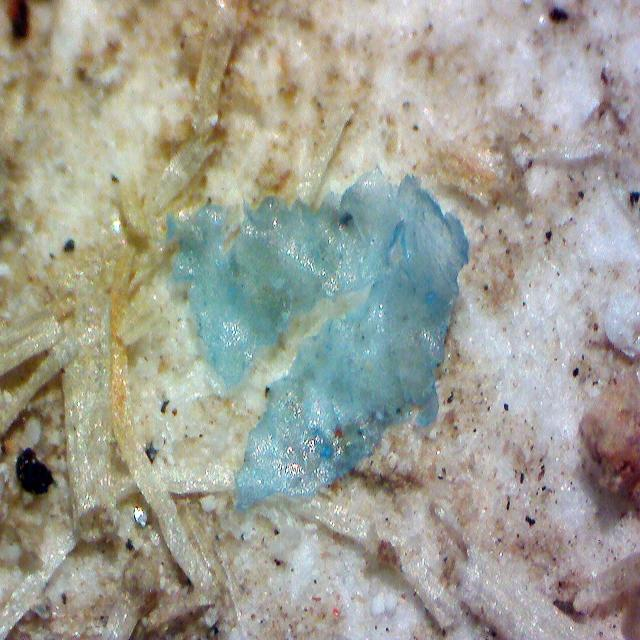microplastic: (166, 166, 471, 506)
